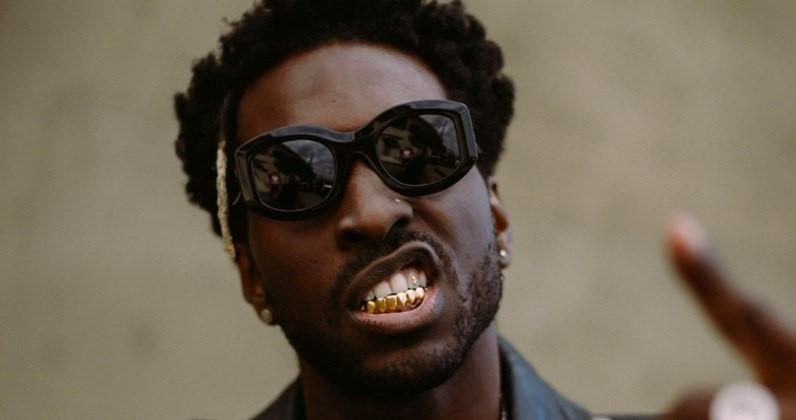face_no_mask: (217, 43, 515, 398)
